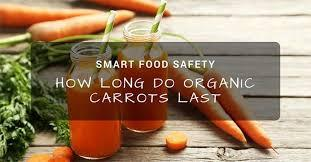Organic: (1, 1, 311, 160)
